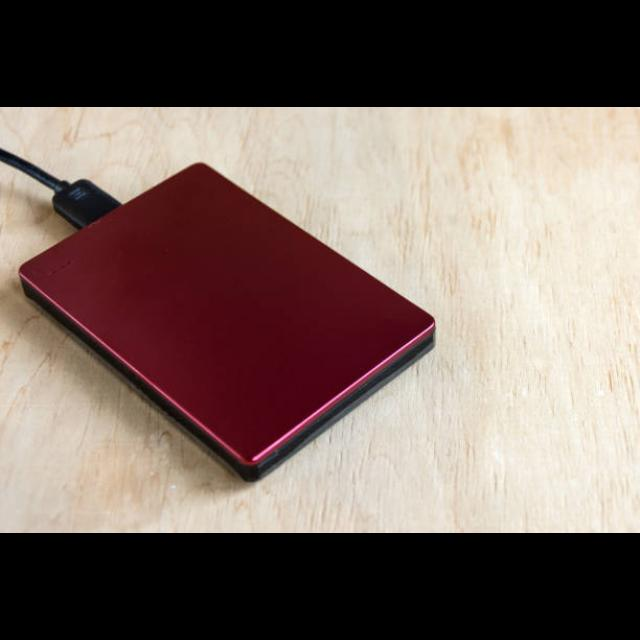HDD: (18, 165, 437, 483)
